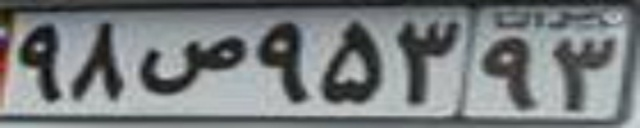3: (395, 19, 460, 106), (548, 35, 618, 109)
5: (320, 18, 383, 104)
8: (72, 23, 127, 101)
9: (257, 23, 309, 104), (480, 35, 535, 109), (17, 21, 61, 102)
saat: (138, 33, 245, 95)
